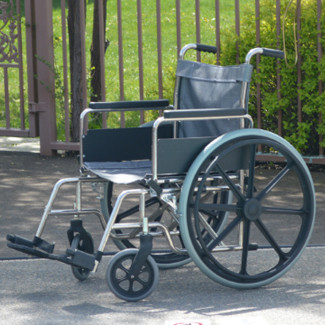wheelchair: (11, 36, 315, 302)
